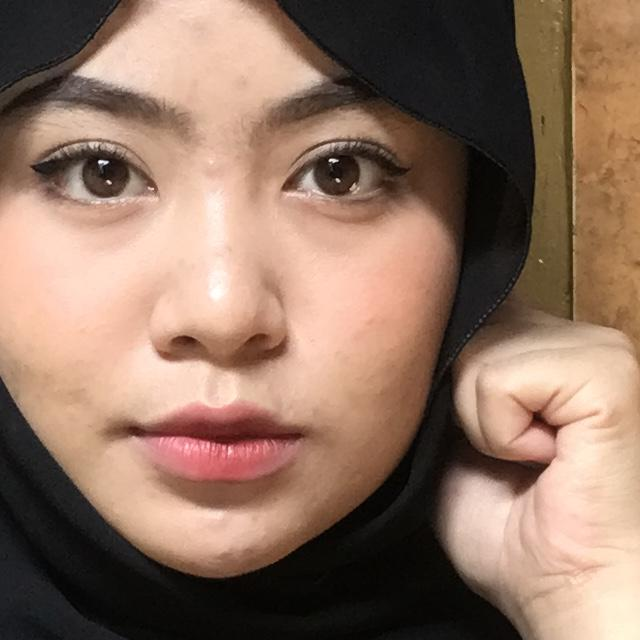ibu: (390, 276, 640, 640)
